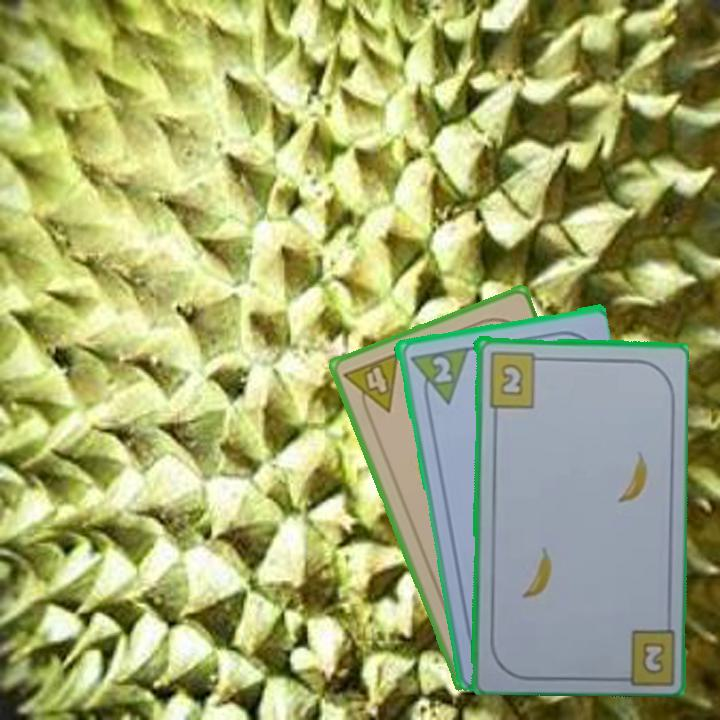2b: (485, 348, 547, 409), (638, 638, 667, 677)
2p: (428, 352, 455, 385)
4p: (340, 348, 402, 422)
